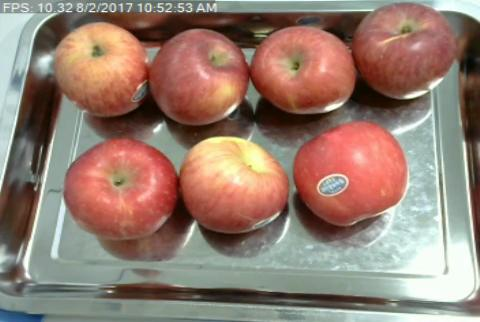apple: (293, 121, 410, 226), (65, 139, 175, 239), (180, 136, 289, 232), (354, 3, 454, 100), (149, 29, 247, 125), (251, 26, 354, 114), (53, 23, 148, 115)
